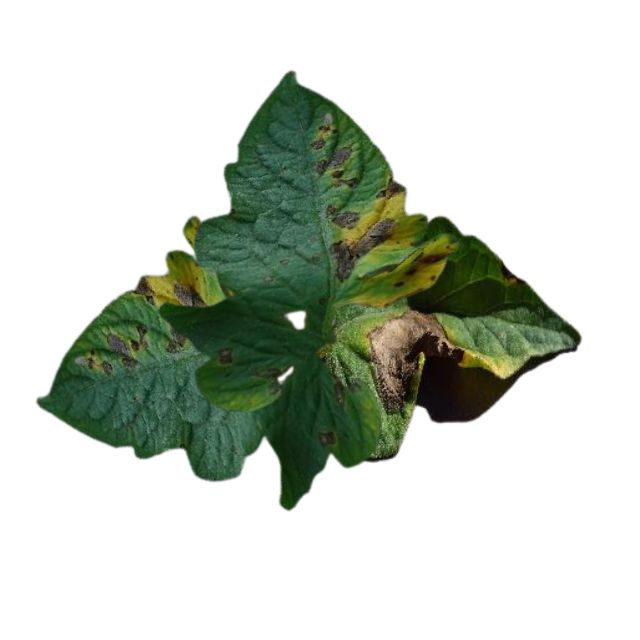Early_blight: (368, 306, 464, 412), (328, 215, 394, 285), (308, 113, 360, 190), (78, 322, 150, 377), (395, 248, 448, 290), (172, 280, 210, 308), (324, 204, 358, 229), (374, 176, 406, 201), (132, 276, 157, 306), (165, 328, 188, 353), (216, 342, 235, 367), (503, 256, 520, 282), (316, 427, 335, 446)
